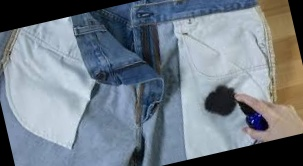ink: (200, 85, 238, 122)
